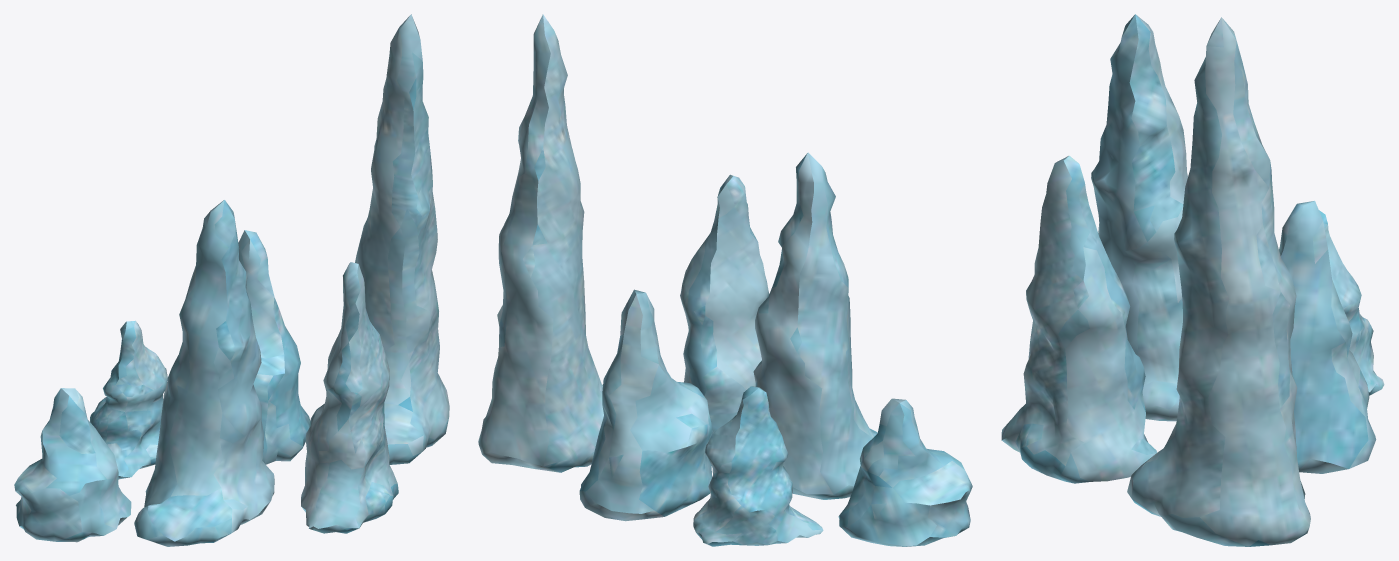
File: Picos_nieve.obj
3 views of the same model, side by side, from view 1: azimuth 30°, elevation 25°; view 2: azimuth 150°, elevation 25°; view 3: azimuth 270°, elevation 25° (orthographic). The views are drawn at different scales.
Visible parts, largest first — view 1: Picos_nieve:Picos; view 2: Picos_nieve:Picos; view 3: Picos_nieve:Picos.
Part boxes in pixels (x1,y1,x2,y2): Picos_nieve:Picos: (14, 14, 449, 546); Picos_nieve:Picos: (478, 14, 972, 546); Picos_nieve:Picos: (1001, 14, 1384, 546).
Size of the model in its own units: 2.33 by 2.11 by 1.42.
Materials: 1 (1 with a texture image).
